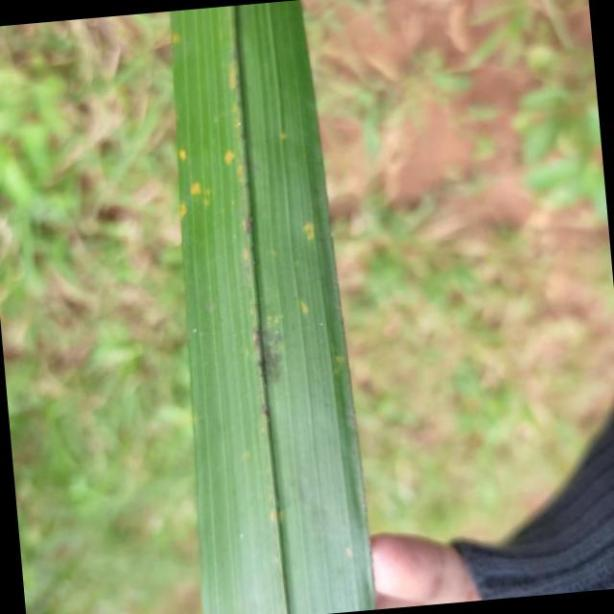Kalium: (172, 7, 374, 614)
